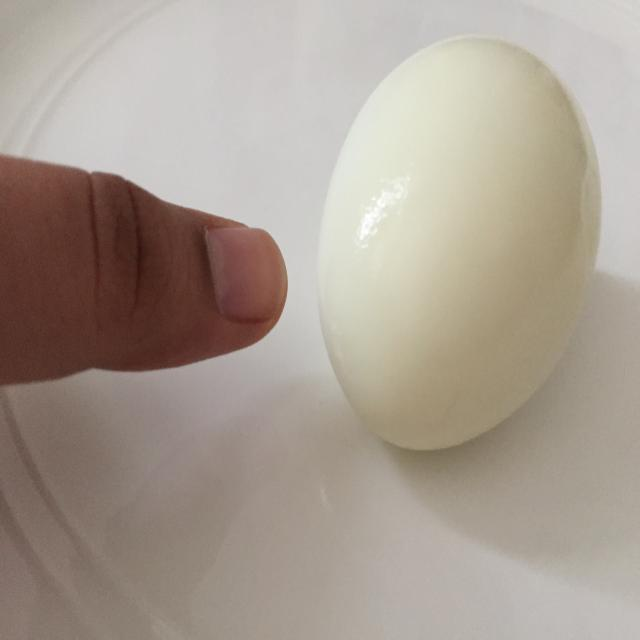Egg: (305, 28, 615, 464)
Finger: (93, 157, 295, 382)
